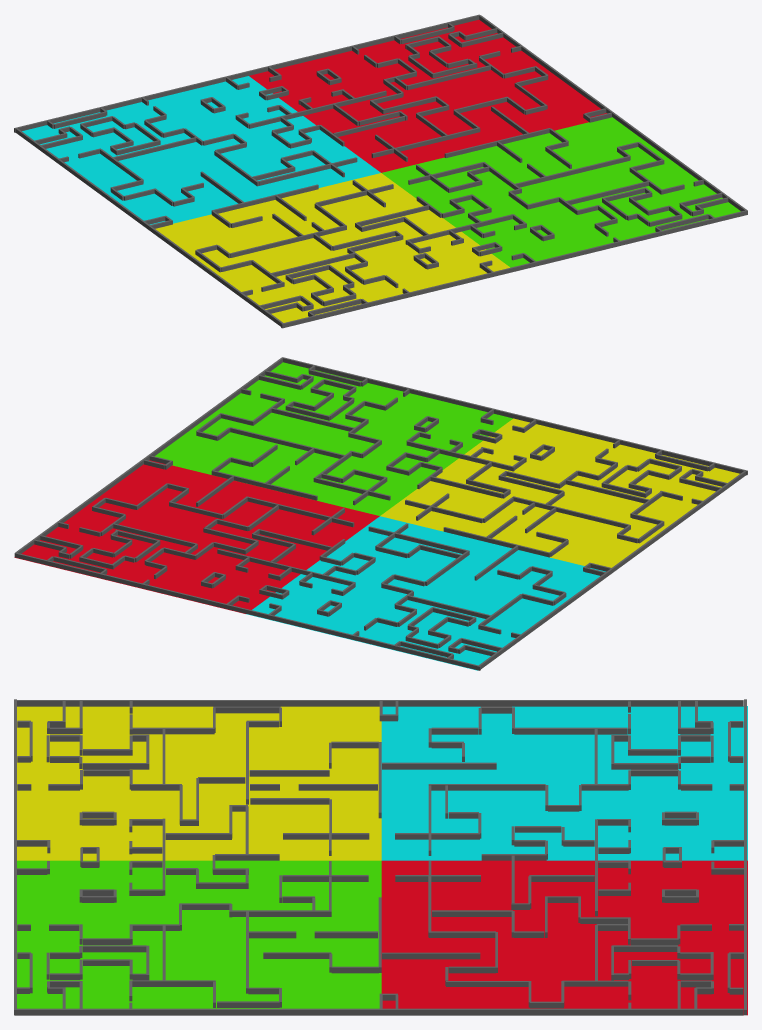
The model's file is GreyBox.fbx.
3 views of the same model, one above another, from view 1: azimuth 30°, elevation 25°; view 2: azimuth 150°, elevation 25°; view 3: azimuth 270°, elevation 25° (orthographic). The views are drawn at different scales.
Parts seen in each view (by area): view 1: GreyBox; view 2: GreyBox; view 3: GreyBox.
Part boxes in pixels (<box>): GreyBox: <box>14,14,747,328</box>; GreyBox: <box>14,357,747,670</box>; GreyBox: <box>14,699,747,1015</box>.
Size of the model in its own units: 177 by 1.47 by 177.
